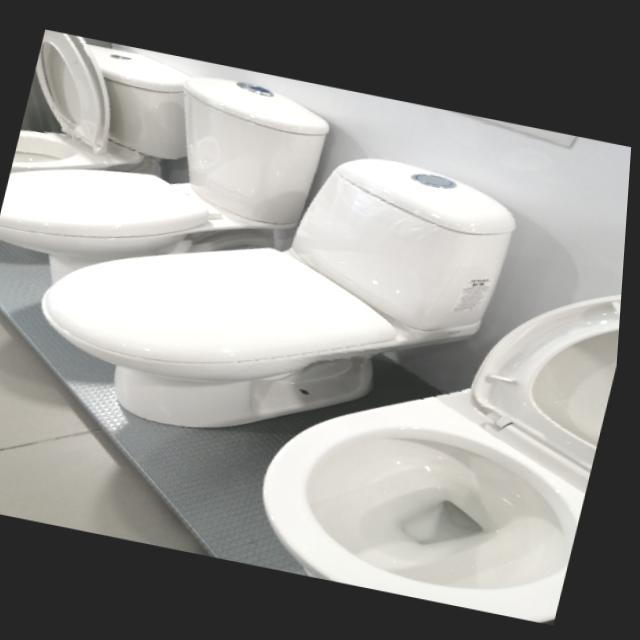toilet: (18, 97, 532, 480), (247, 227, 628, 622), (0, 39, 340, 328), (10, 28, 212, 205)
